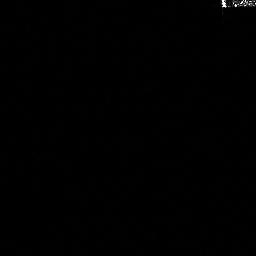ship: (217, 1, 256, 8)
